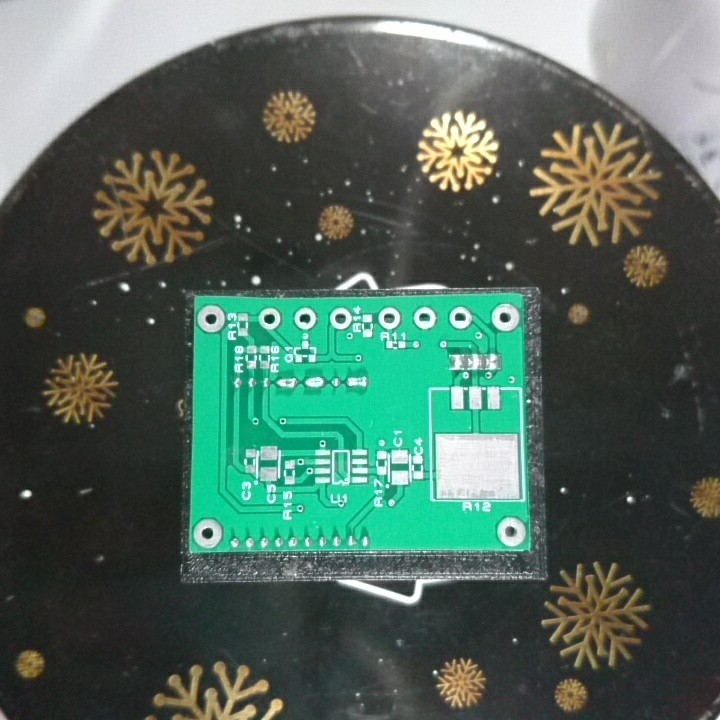F: (191, 517, 223, 549), (489, 302, 522, 333), (495, 516, 526, 549), (195, 304, 226, 335), (375, 304, 404, 332), (447, 303, 474, 331), (257, 306, 284, 331), (412, 305, 437, 332), (328, 305, 354, 330), (292, 306, 317, 330)
P: (342, 374, 371, 391), (274, 374, 300, 392), (302, 374, 325, 392)
